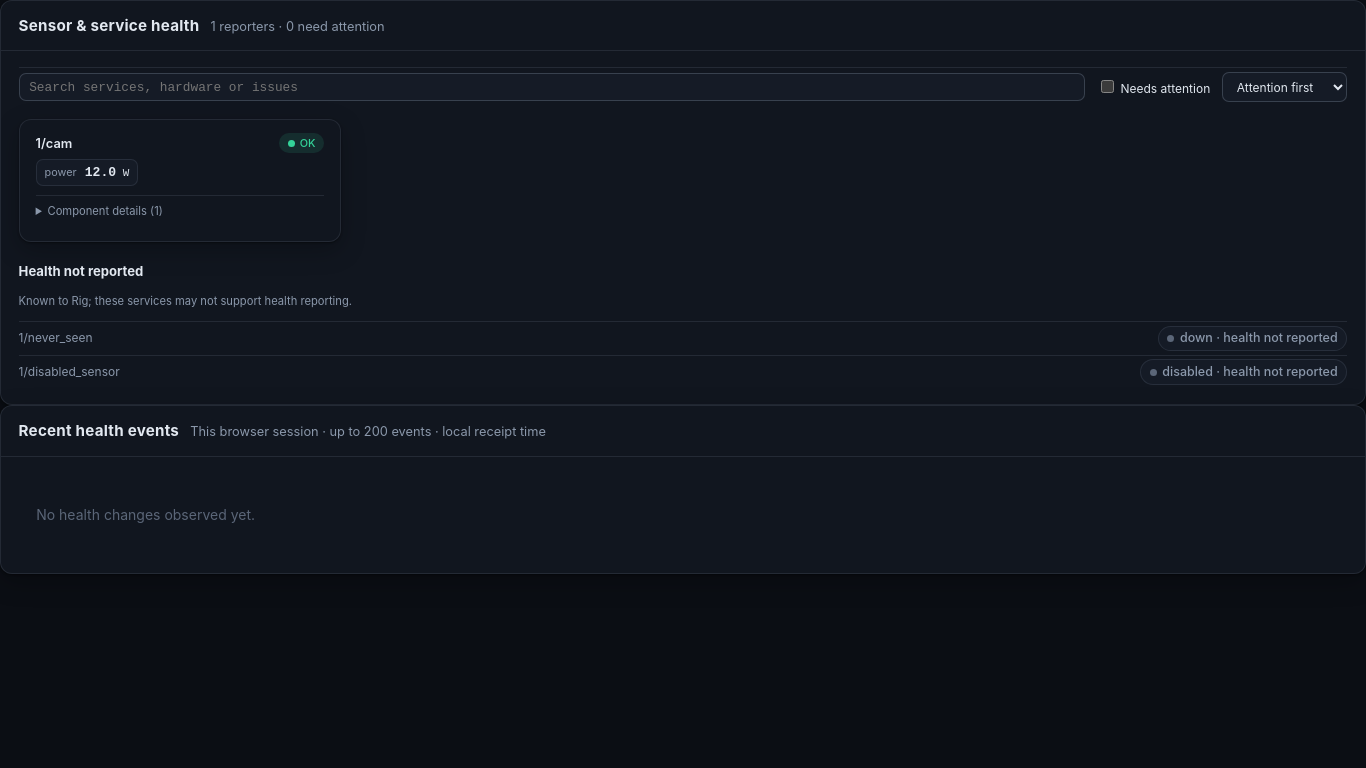
shows electrical units, missing inventory and filtered services
Check: the button with aria-label "input power: 12.0 W" is shown, box [36,159,138,186]
Click the heading "Component details (1)".
click(105, 211)  # box [48,204,163,218]
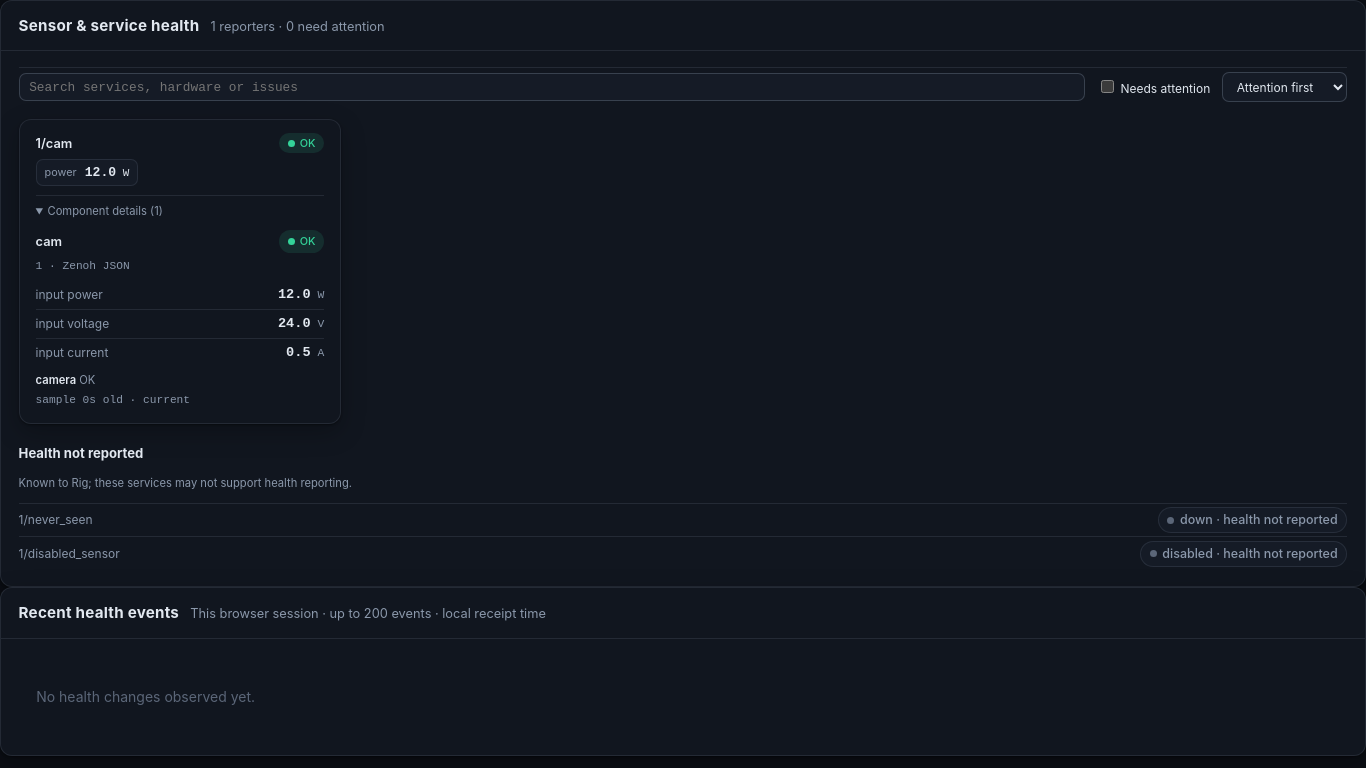
Check: the text "1/never_seen" is shown, box [19,511,93,529]
Check: the text "input voltage" is shown, box [36,315,109,333]
Type "never_seen" into the search field named "Filter health services".
click(552, 87); type("never_seen")  # box [19,73,1085,101]
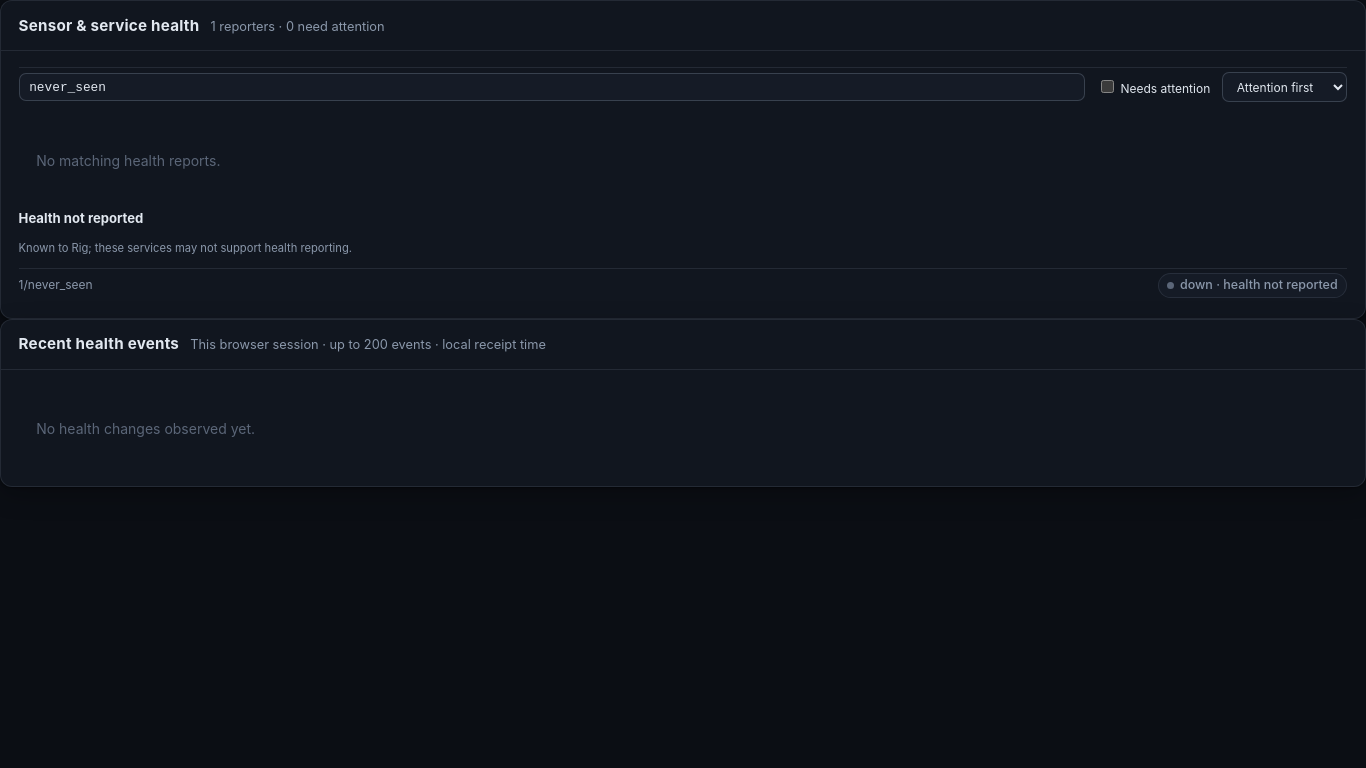
Check: the text "1/never_seen" is shown, box [19,276,93,294]
Check: the text "input power" is gone
